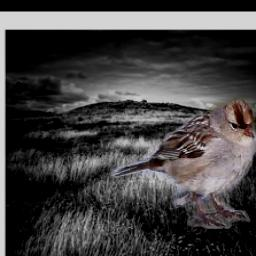Sparrow: (109, 98, 256, 229)
